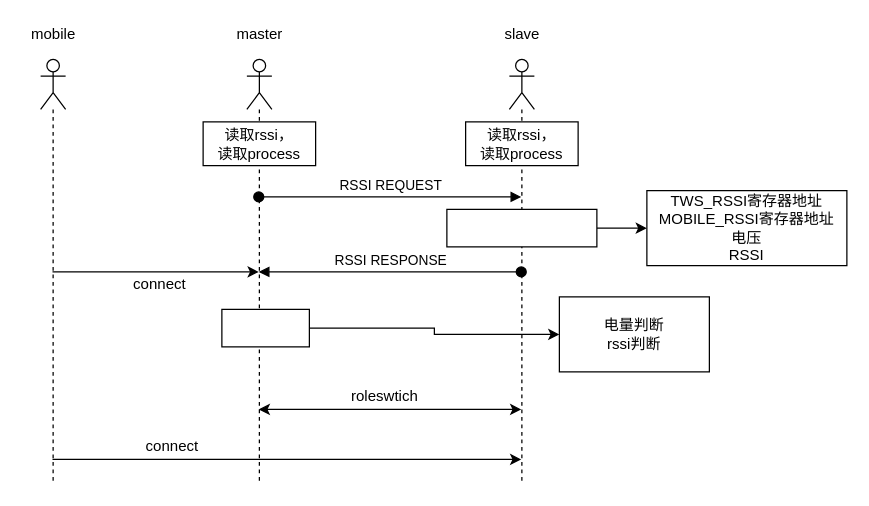
This 869x506 diagram has some shape labels left out. Here are the shapes that lost their labels. From the top down, the box of each, then its label:
(446, 208, 597, 247): massage block
(221, 308, 309, 347): response handler
